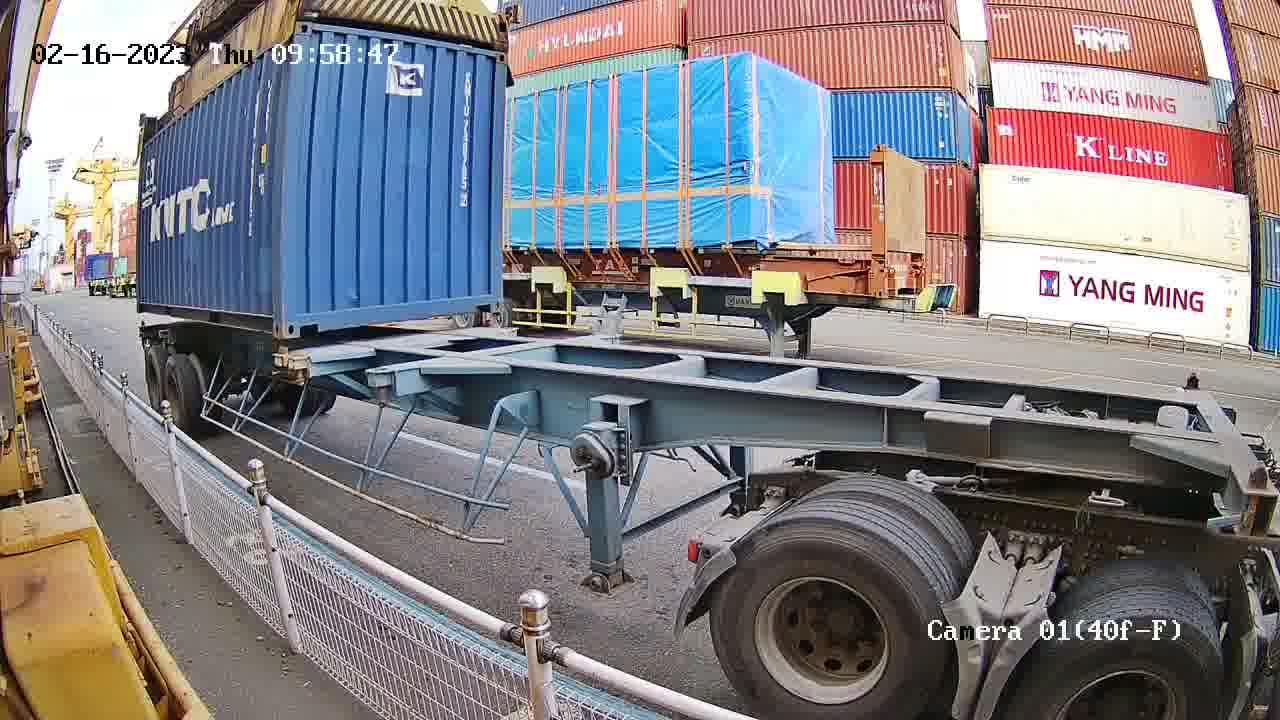Chassis: (304, 329, 522, 362), (281, 325, 488, 356)
Cone: (289, 351, 309, 386), (268, 346, 286, 377)
Hole_L: (282, 299, 326, 337)
Hole_R: (466, 277, 504, 312), (254, 300, 283, 338)
Tire: (707, 517, 952, 719), (1005, 615, 1231, 718), (167, 361, 189, 426), (144, 351, 163, 411)
